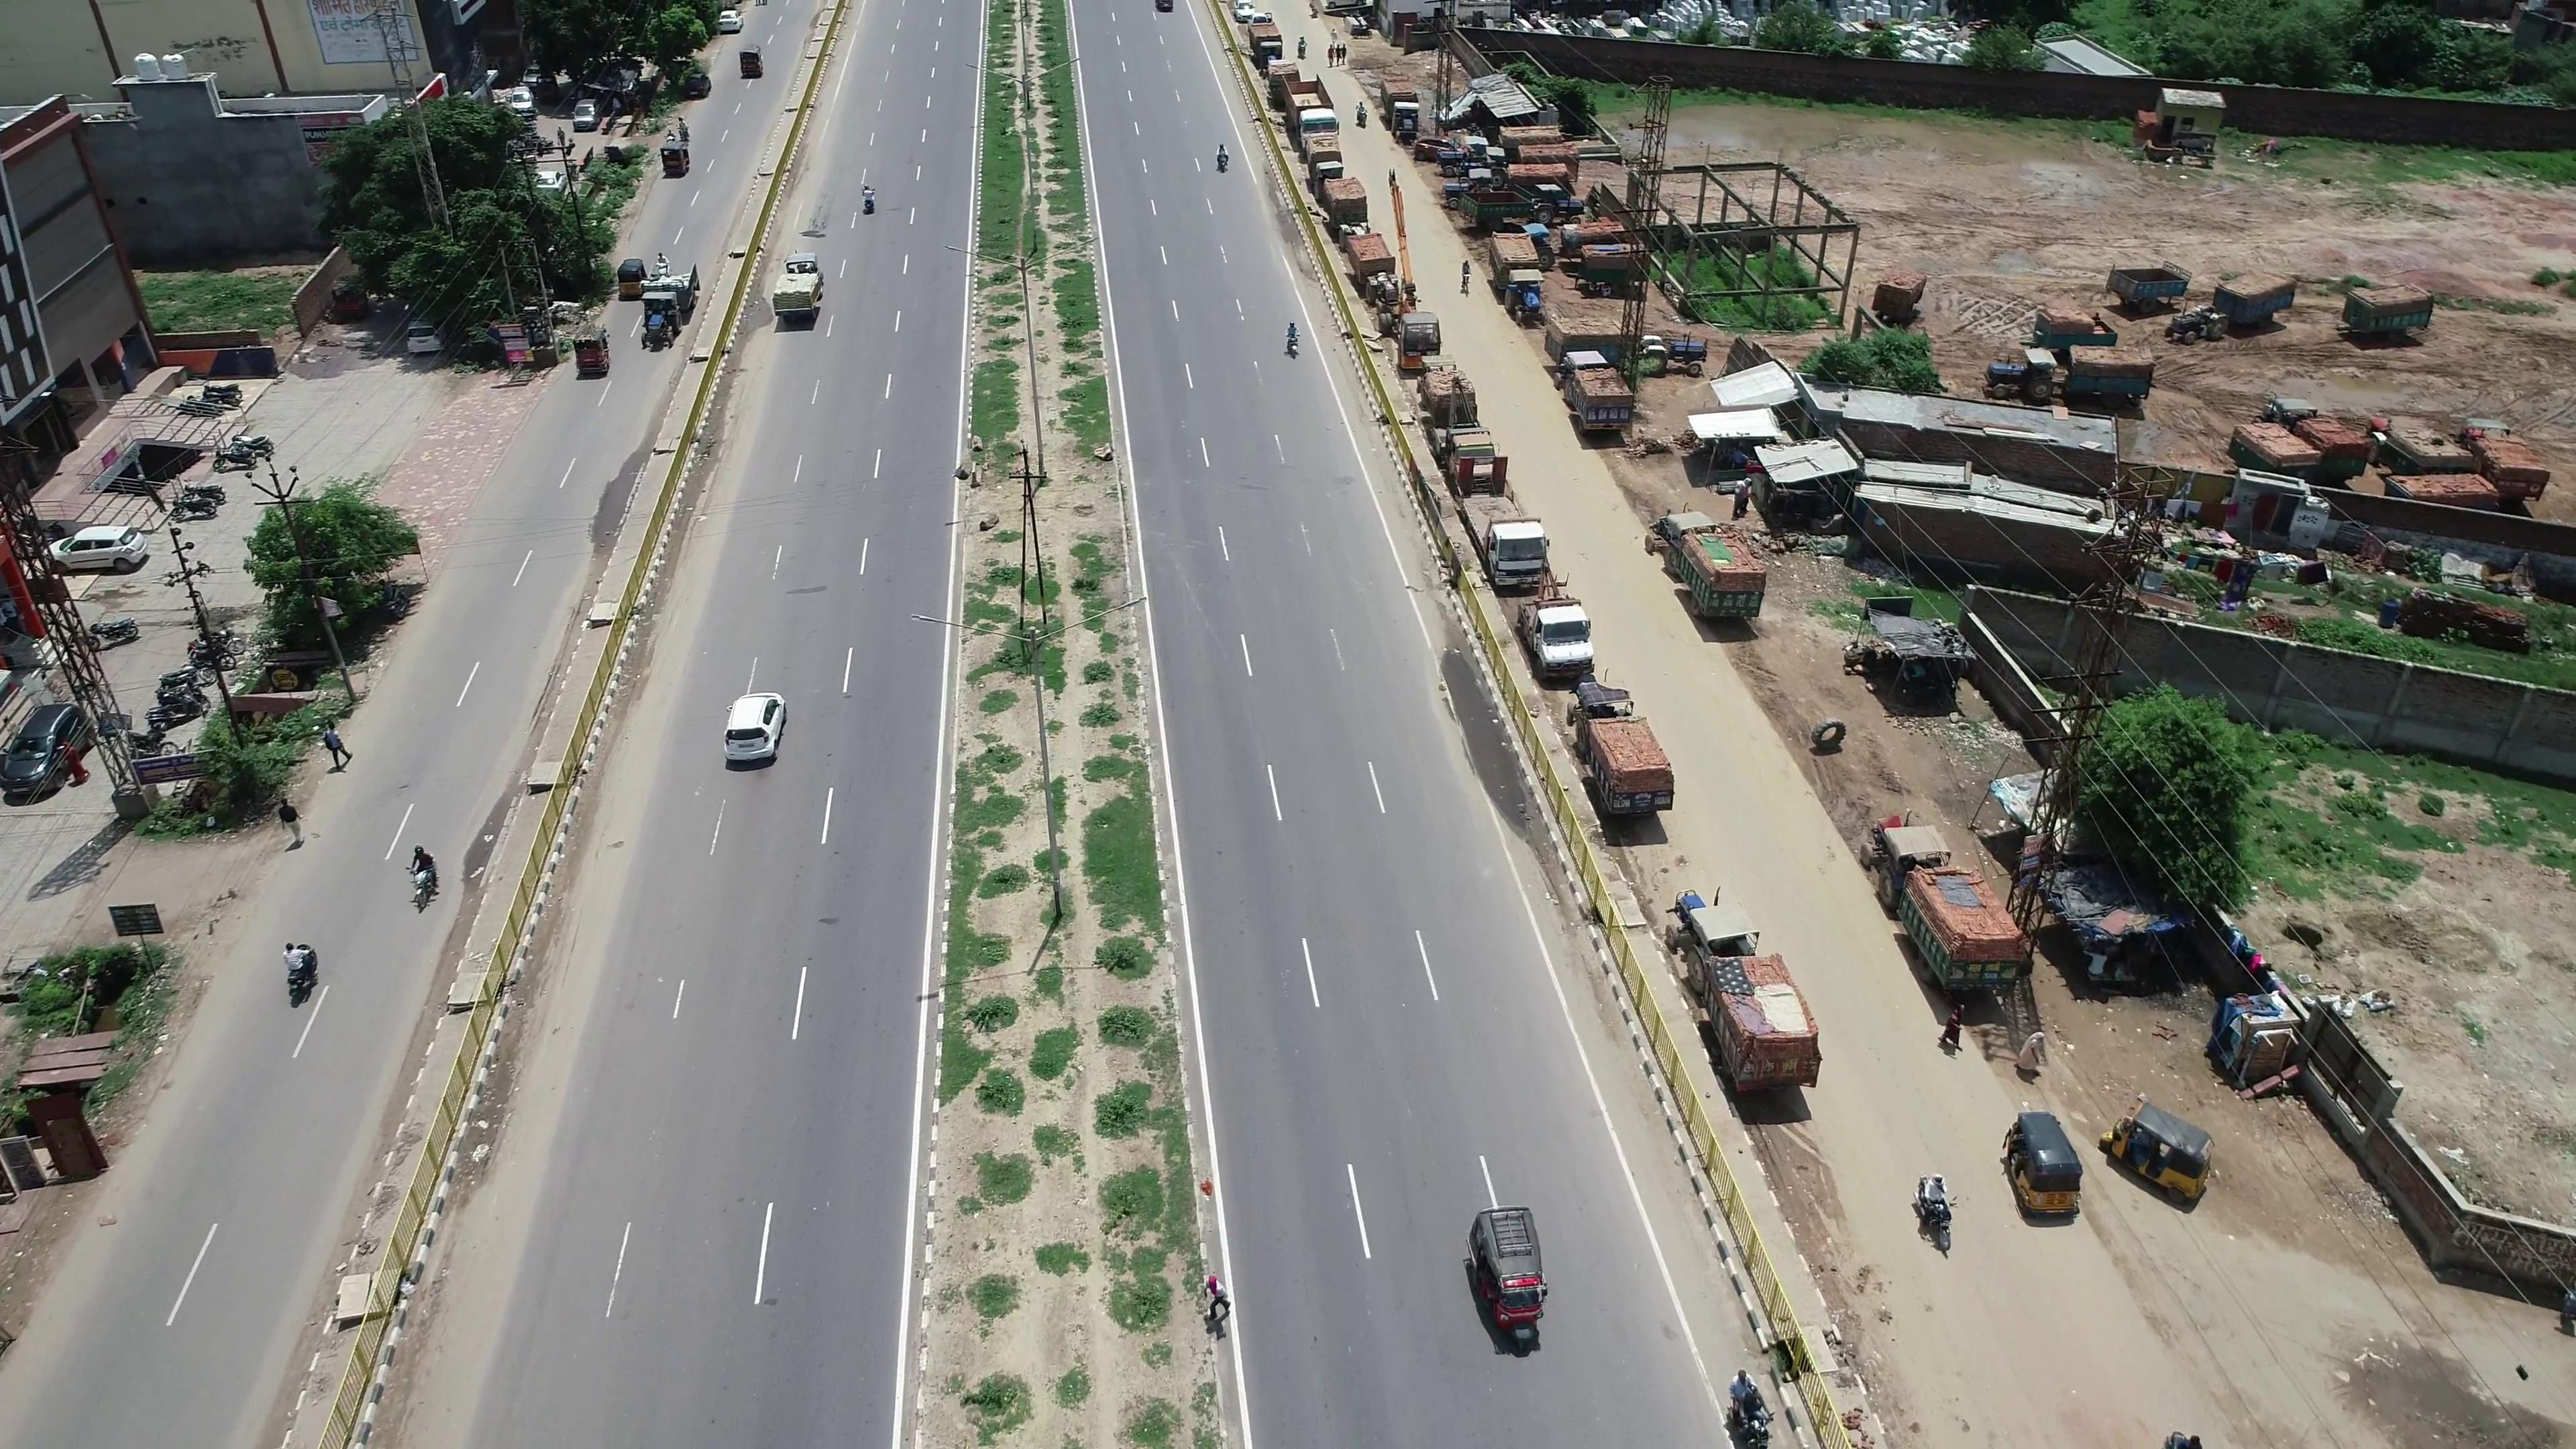Waterlogging: (1440, 663, 1523, 828)
